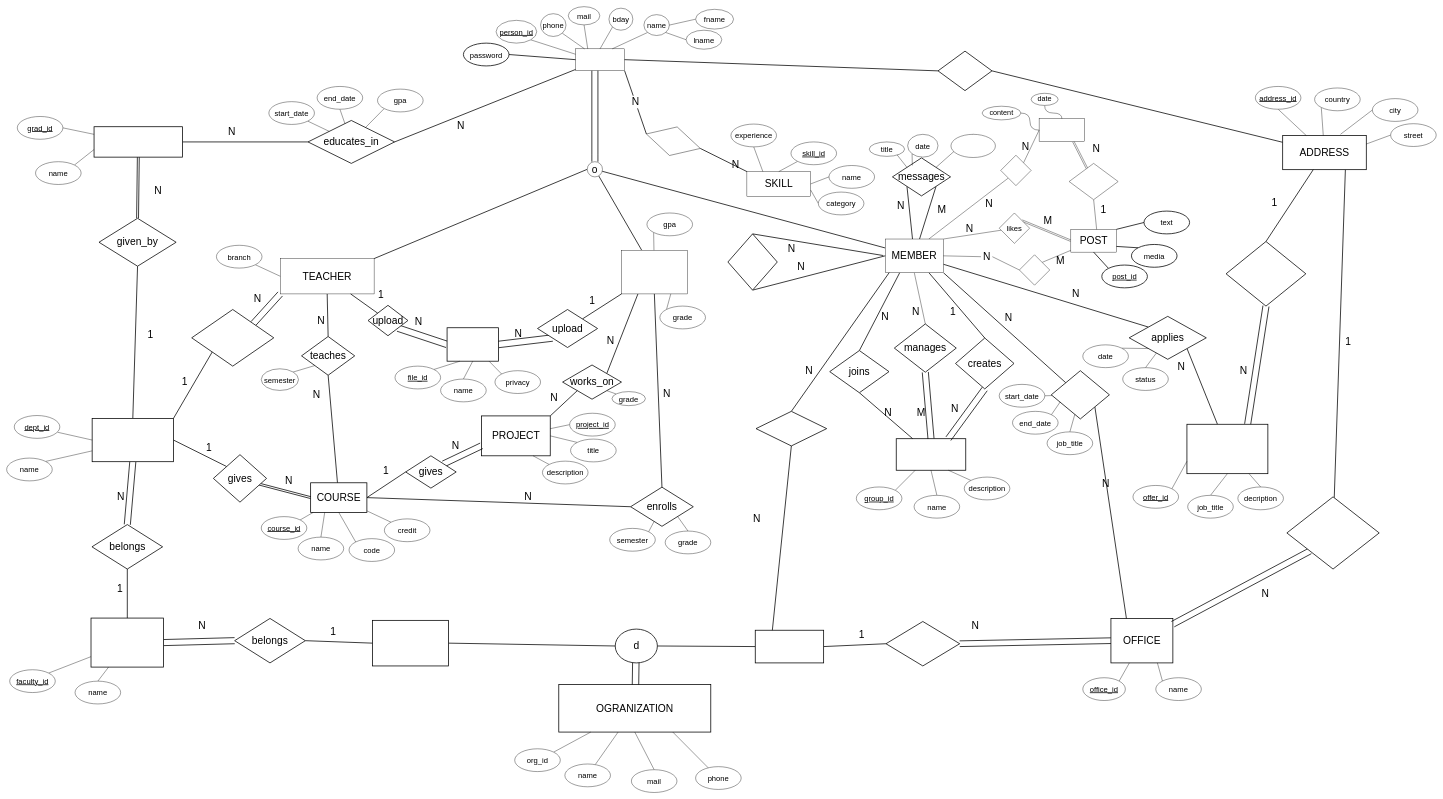
The diagram is 1443 pixels wide and 799 high, and some of its shapes have lost their labels. The shapes that lost their labels are listed below. From the top down, each one's centre as x and y in pixels, then its label:
At point (600, 59): "PERSON".
At point (964, 71): "lives_in".
At point (138, 141): "GRADUATE LEVEL".
At point (673, 141): "knows".
At point (973, 146): "context_text".
At point (1062, 130): "COMMENT".
At point (1015, 170): "shares".
At point (1093, 181): "belong".
At point (654, 272): "STUDENT".
At point (752, 261): "connects".
At point (1034, 269): "uses".
At point (1266, 273): "work place".
At point (232, 337): "works_in".
At point (472, 344): "FILE".
At point (1080, 394): "works_for".
At point (133, 440): "DEPARTMENT".
At point (791, 428): "follows".
At point (931, 454): "GROUP".
At point (1227, 449): "JOB OFFER".
At point (1332, 532): "loacted_in".
At point (127, 642): "FACULTY".
At point (410, 643): "UNIVERSITY".
At point (789, 646): "COMPANY".
At point (922, 643): "controls".
